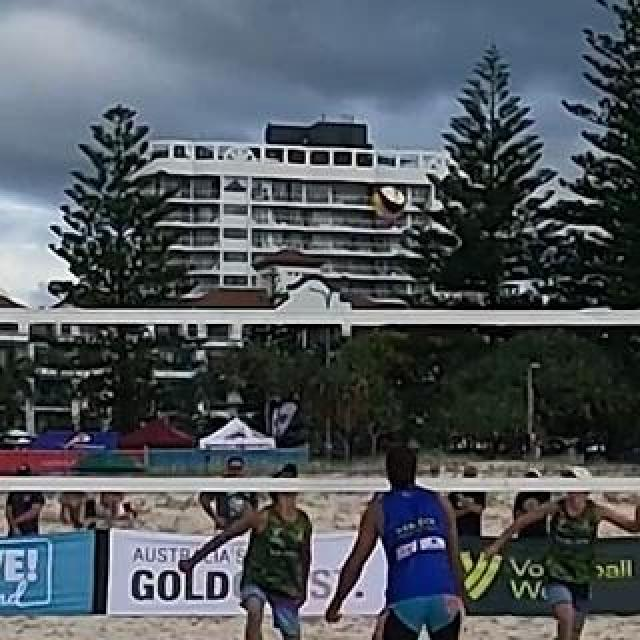volleyball: (373, 187, 405, 217)
